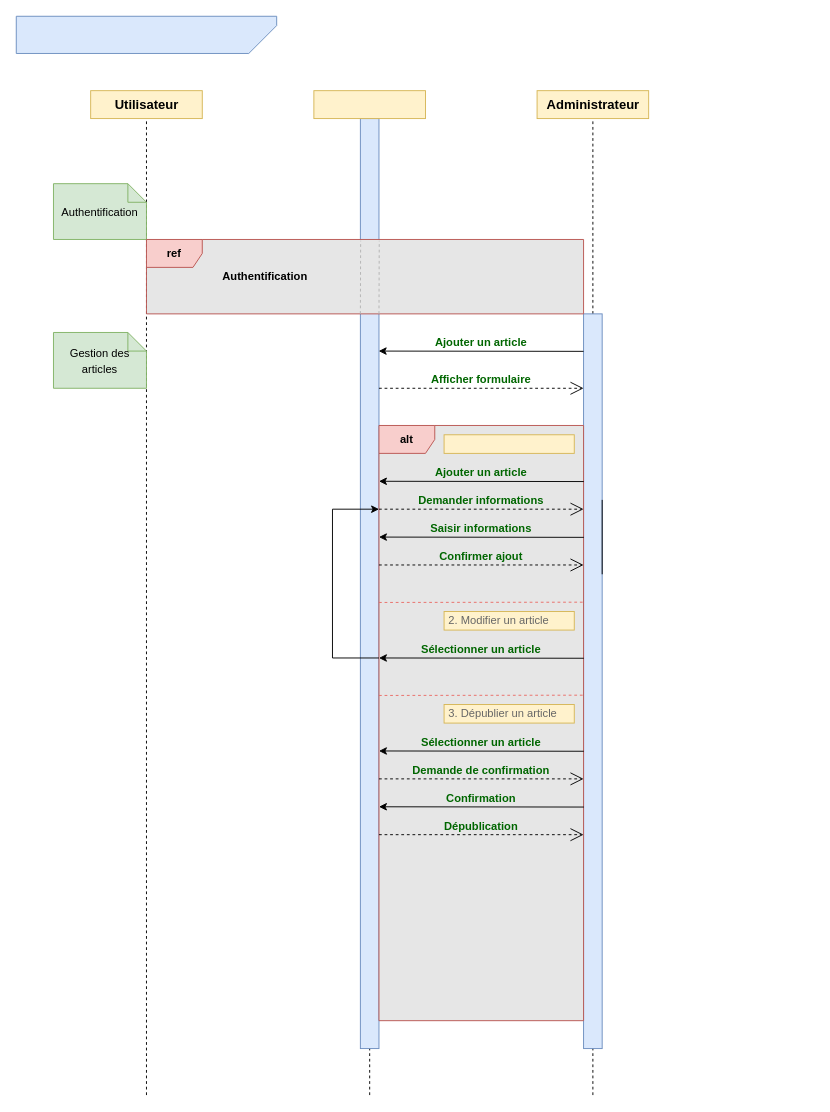
The diagram is 830 pixels wide and 1112 high, and some of its shapes have lost their labels. Each missing label, with the centre of its shape:
"1. Ajouter un article" goes at (x=508, y=443).
"sd Ajouter un article" goes at (x=146, y=34).
"Système" goes at (x=369, y=104).
